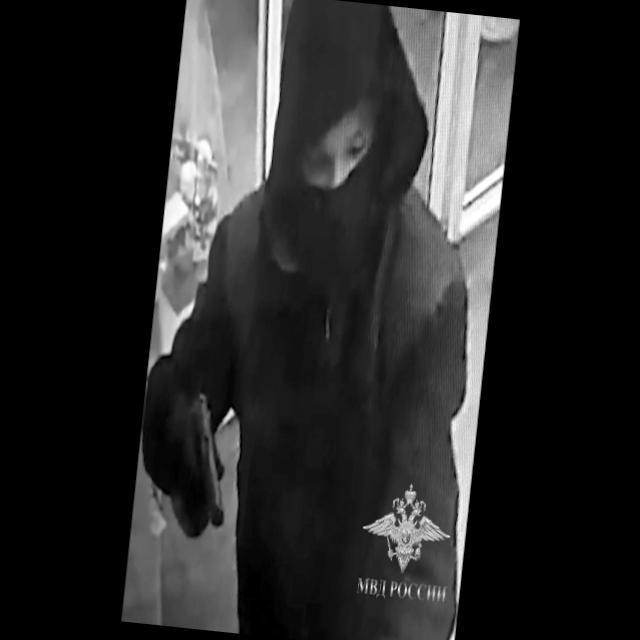gun: (160, 389, 240, 546)
person with a gun: (129, 0, 500, 636)
